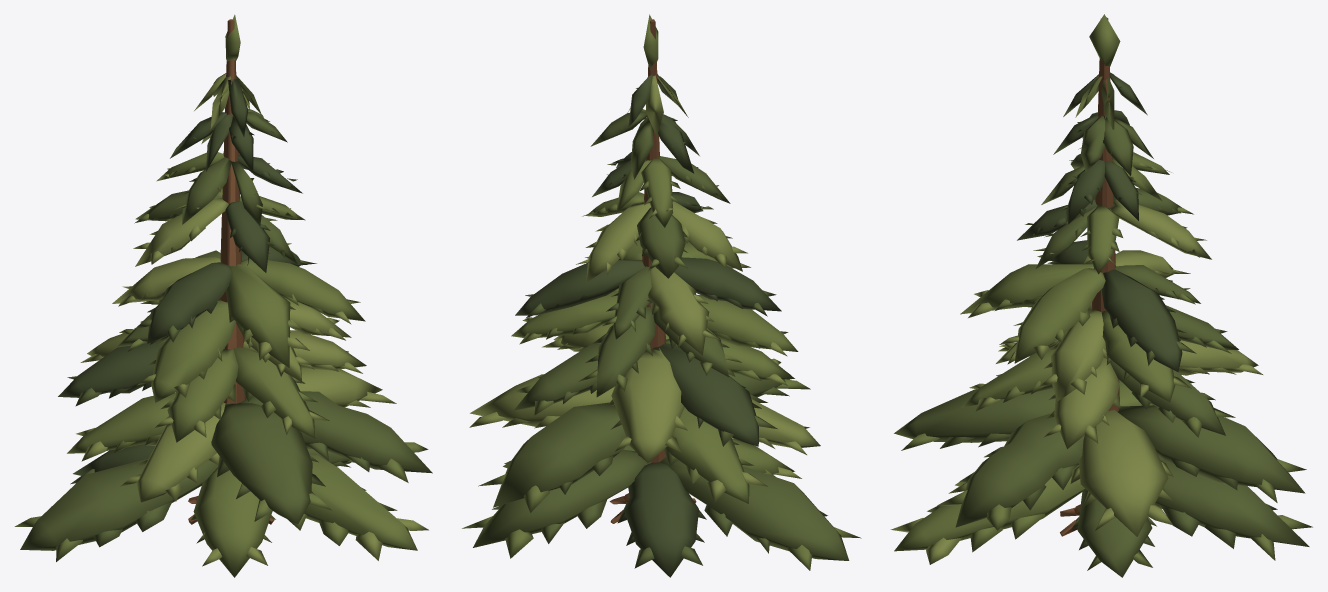
File: pine-1-lod.glb
The picture shows the model from 3 angles, left to right: view 1: azimuth 30°, elevation 25°; view 2: azimuth 150°, elevation 25°; view 3: azimuth 270°, elevation 25°; orthographic projection. The views are drawn at different scales.
Visible parts, largest first — view 1: pine-1; view 2: pine-1; view 3: pine-1.
Part boxes in pixels (x1=…): pine-1: x1=14, y1=14, x2=432, y2=577; pine-1: x1=462, y1=14, x2=861, y2=577; pine-1: x1=890, y1=14, x2=1312, y2=577.
Size of the model in its own units: 5.38 by 7 by 5.15.
